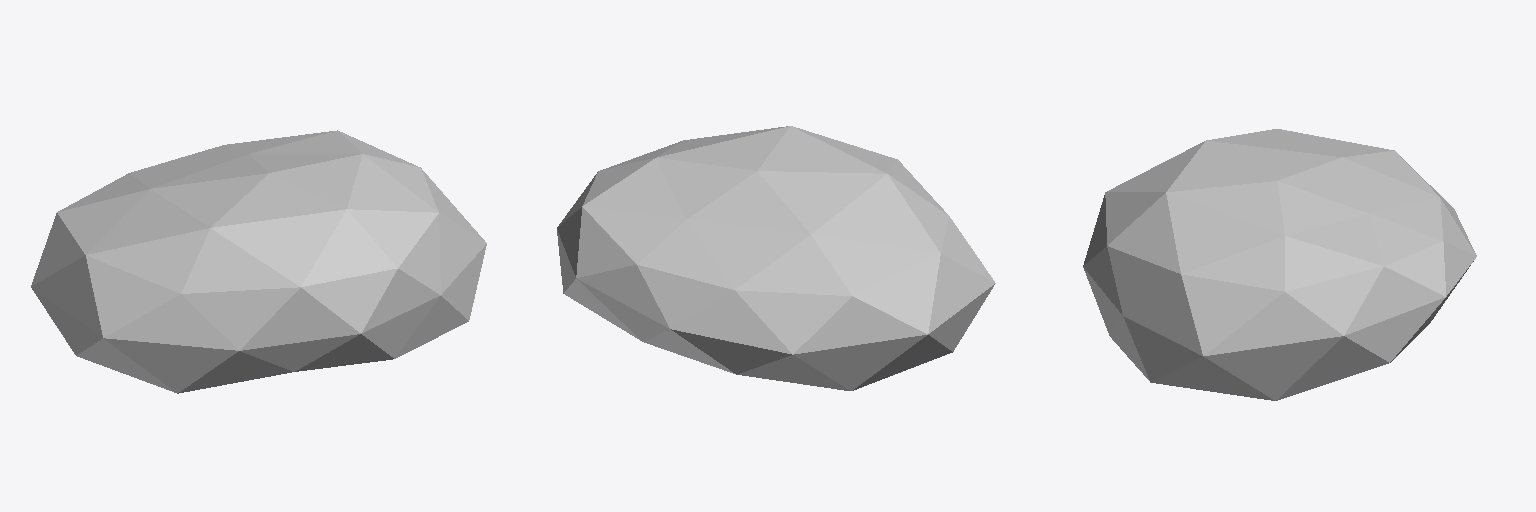
Rendered from Rock2_100.obj.
3 views of the same model, side by side, from view 1: azimuth 30°, elevation 25°; view 2: azimuth 150°, elevation 25°; view 3: azimuth 270°, elevation 25° (orthographic).
Parts seen in each view (by area): view 1: Icosphere.001; view 2: Icosphere.001; view 3: Icosphere.001.
Part boxes in pixels (x1,y1,x2,y2): Icosphere.001: (31, 130, 486, 393); Icosphere.001: (557, 126, 995, 390); Icosphere.001: (1083, 129, 1476, 400).
Size of the model in its own units: 2.83 by 1.14 by 2.51.